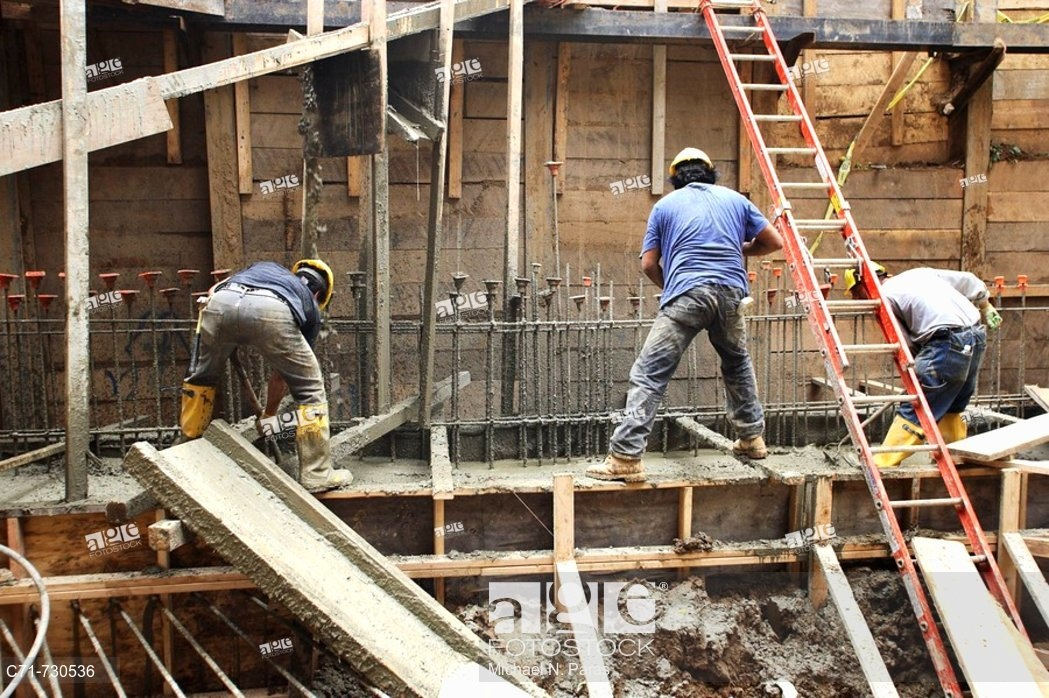yellow: (290, 256, 335, 309), (670, 145, 717, 190), (842, 259, 882, 305)
